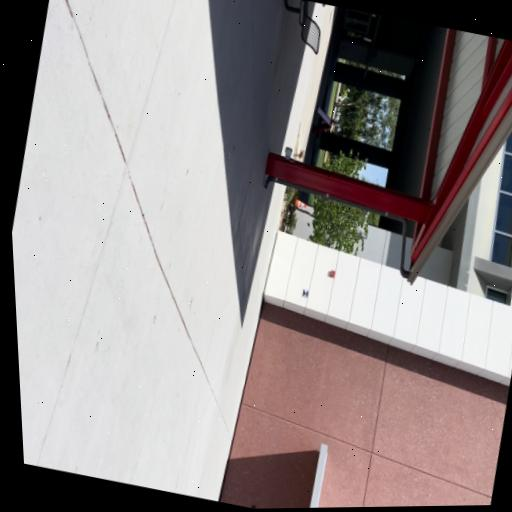target9: (301, 288, 309, 299)
